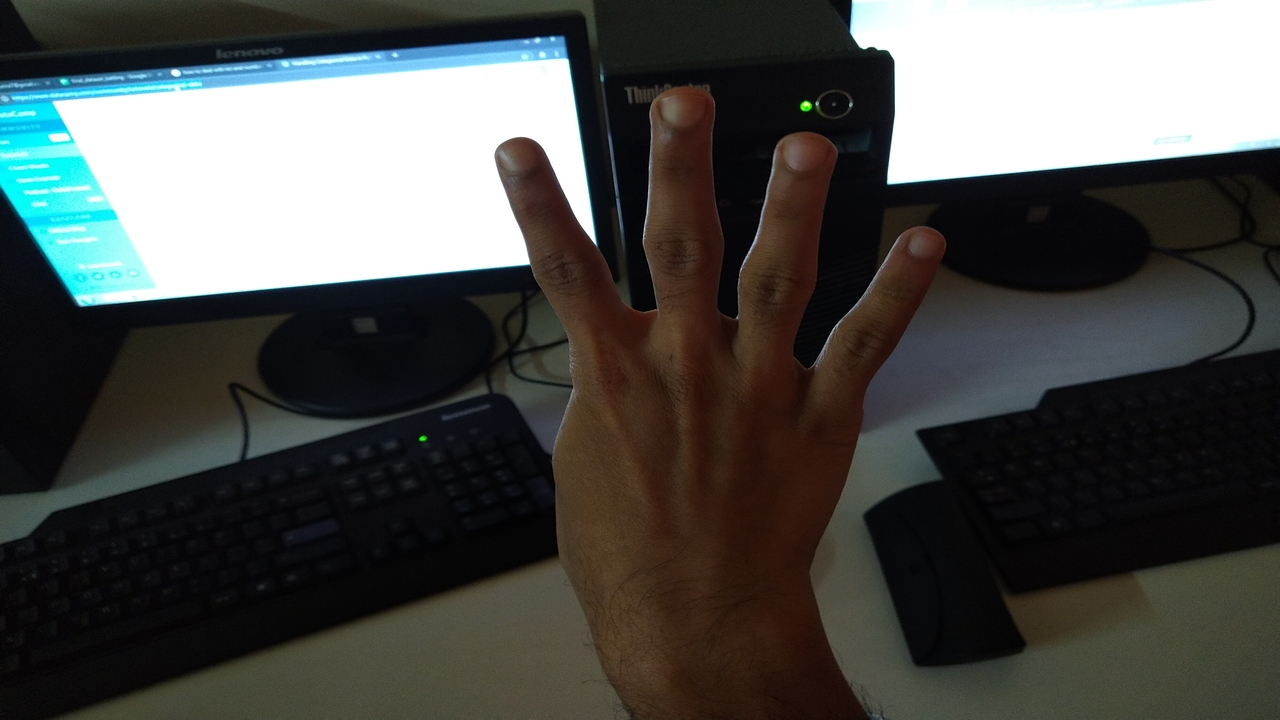fingertip: (766, 122, 838, 190), (644, 84, 720, 146), (484, 130, 552, 186), (892, 222, 952, 272)
